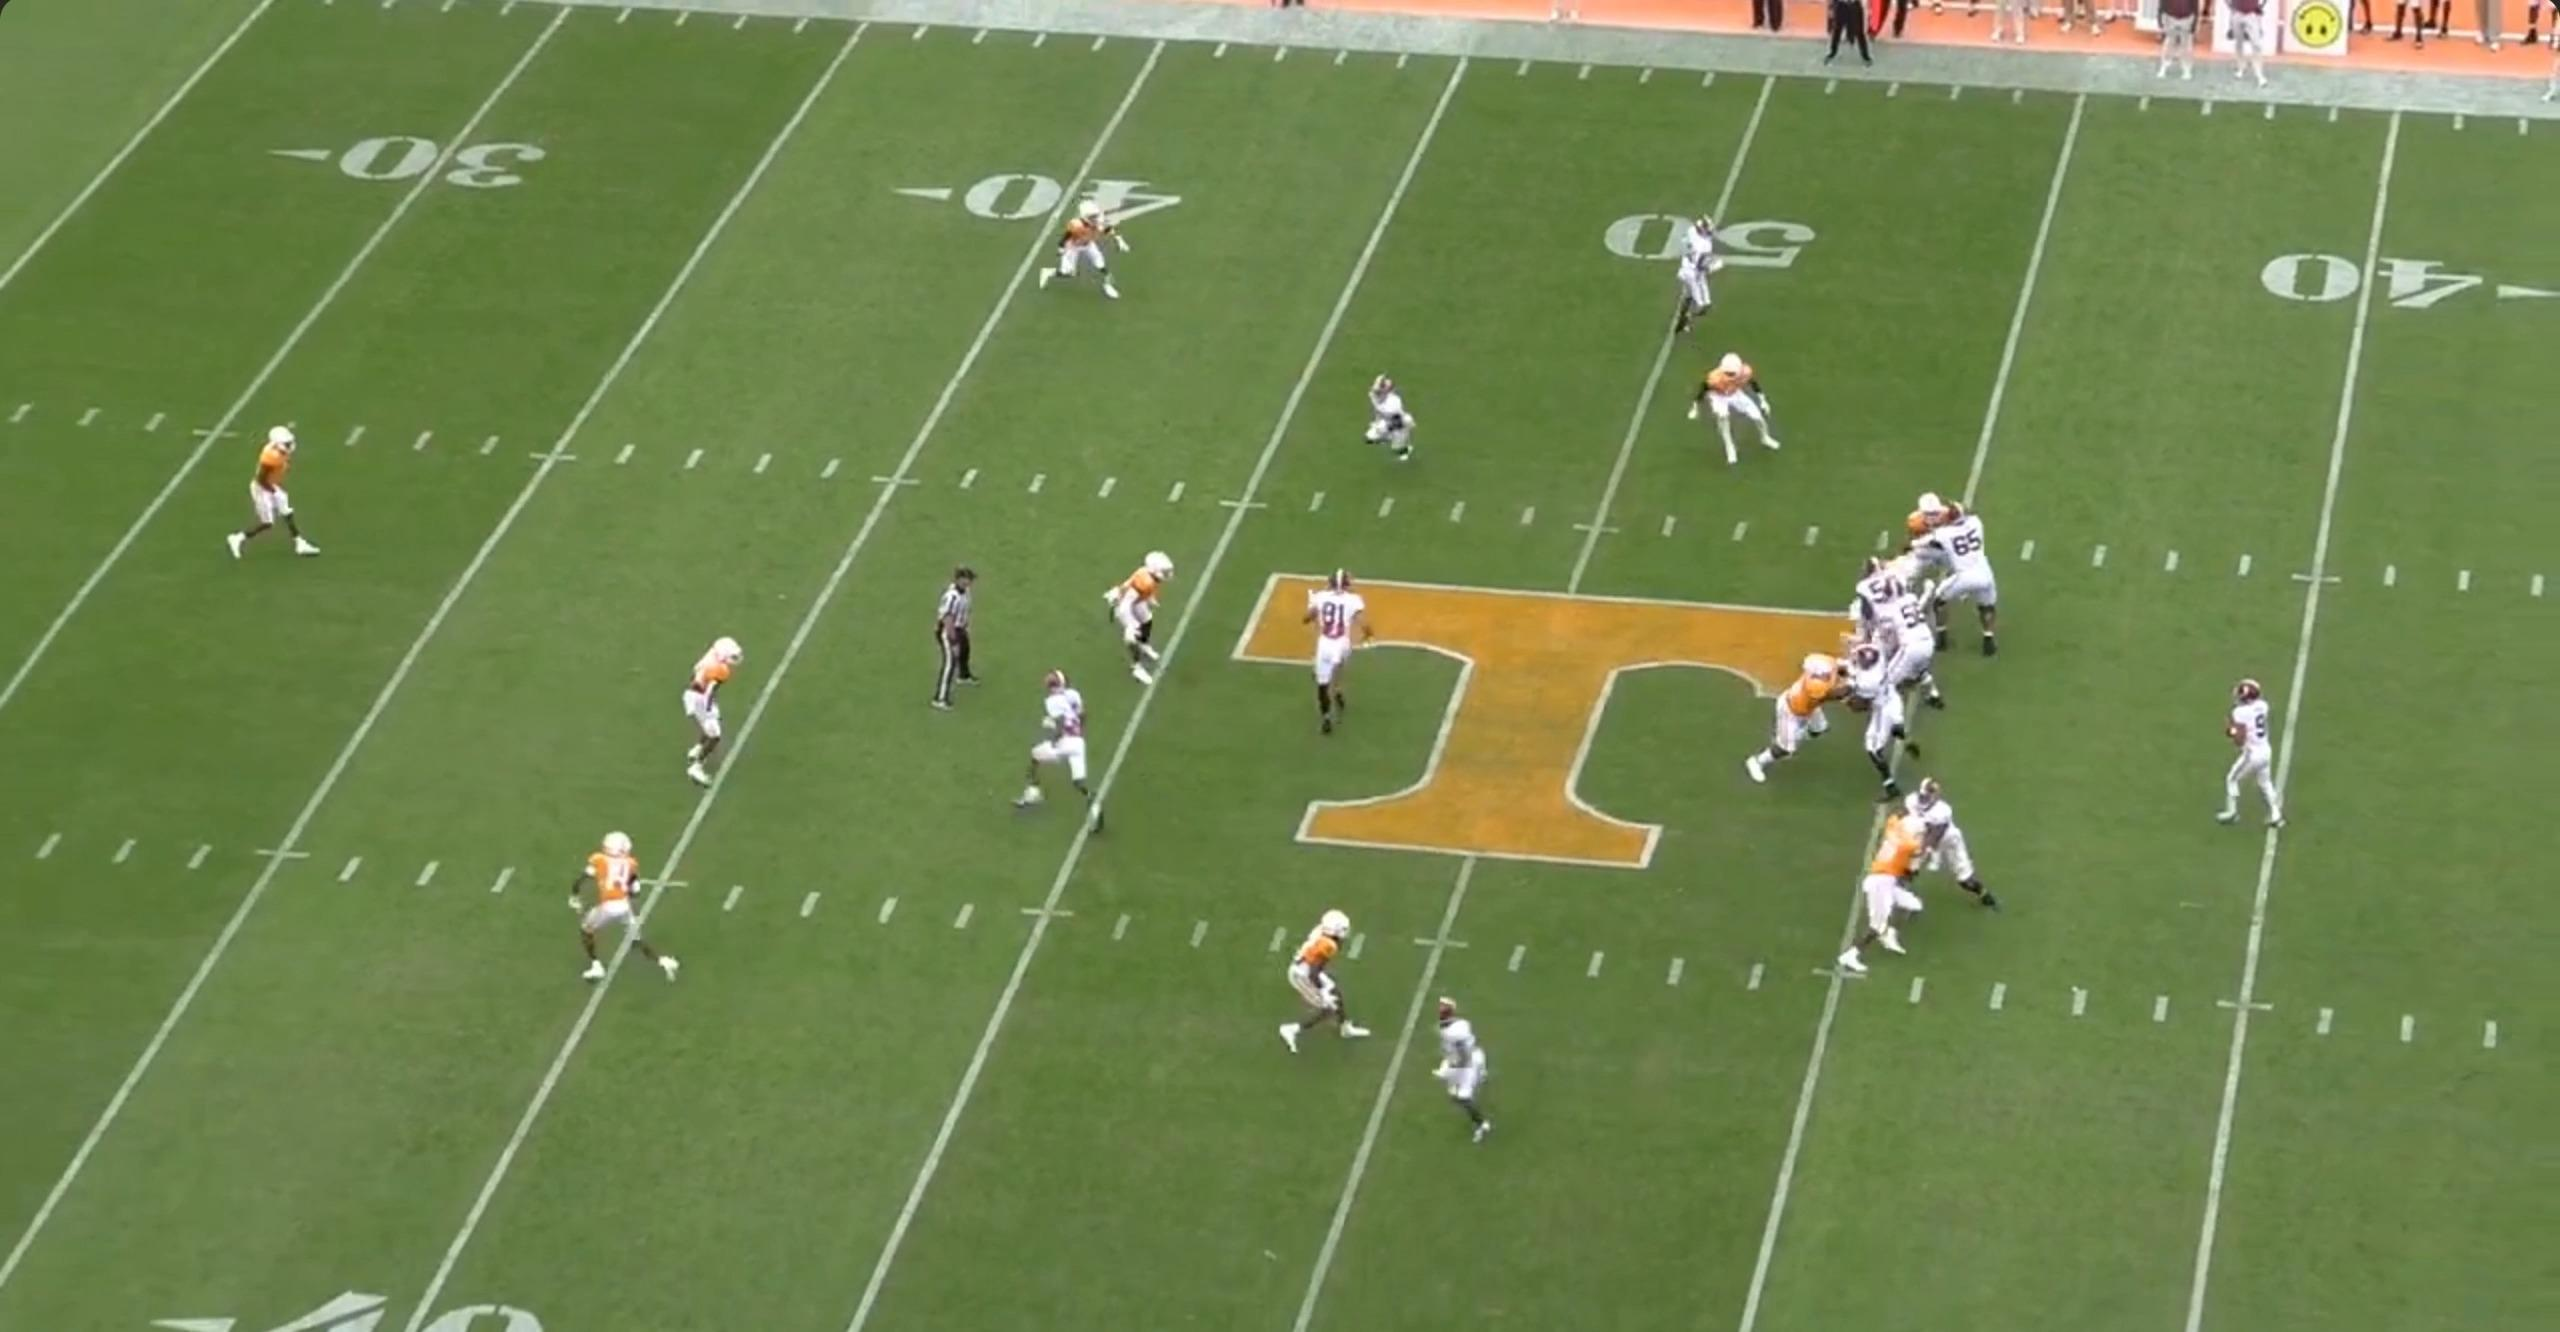defense: (566, 824, 686, 990), (1835, 804, 1940, 978), (1746, 648, 1864, 790), (1265, 909, 1366, 1066), (225, 415, 328, 565), (1693, 352, 1791, 474), (1034, 193, 1133, 310), (672, 628, 740, 790), (1107, 545, 1182, 687), (1901, 491, 1961, 552)
oline: (1886, 777, 2010, 917), (1823, 647, 1925, 799), (1859, 591, 1956, 723), (1928, 513, 2010, 655), (1851, 552, 1915, 631)
qb: (2204, 677, 2291, 834)
ref: (923, 560, 985, 716), (1800, 2, 1883, 81)
skill: (1012, 667, 1106, 833), (1288, 572, 1365, 745), (1419, 995, 1500, 1151), (1668, 217, 1729, 345), (1363, 371, 1427, 472)
